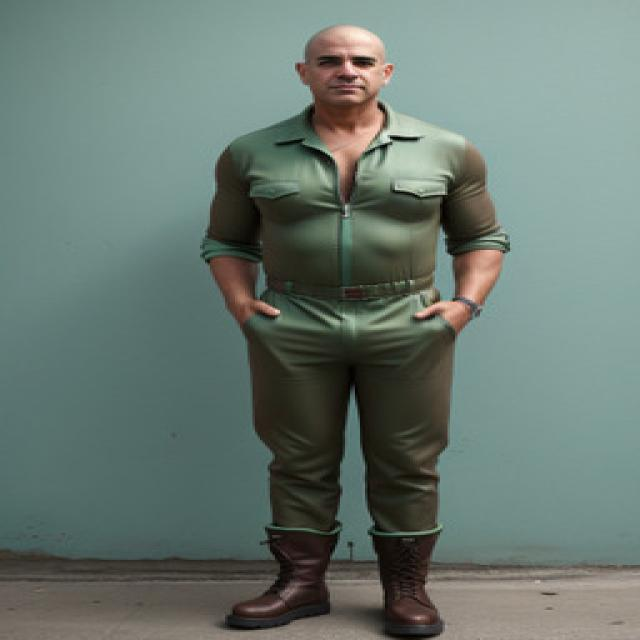Ai human 2: (184, 17, 549, 640)
